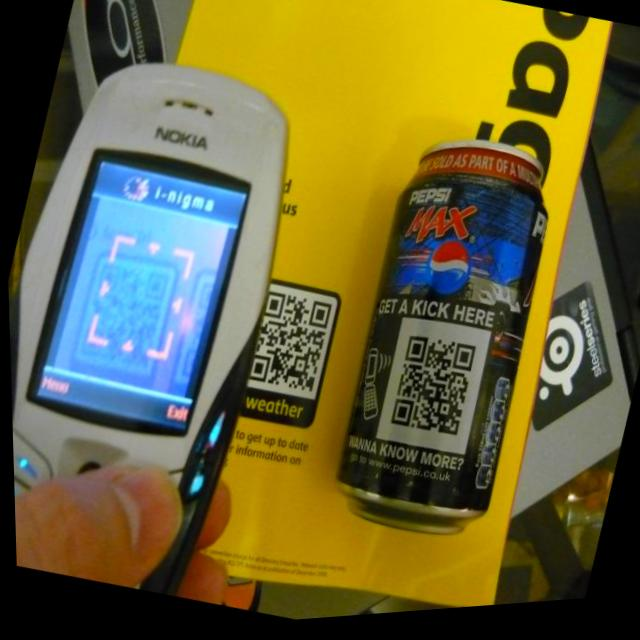qrcode: (75, 260, 170, 376), (386, 337, 477, 447), (244, 292, 332, 400)
